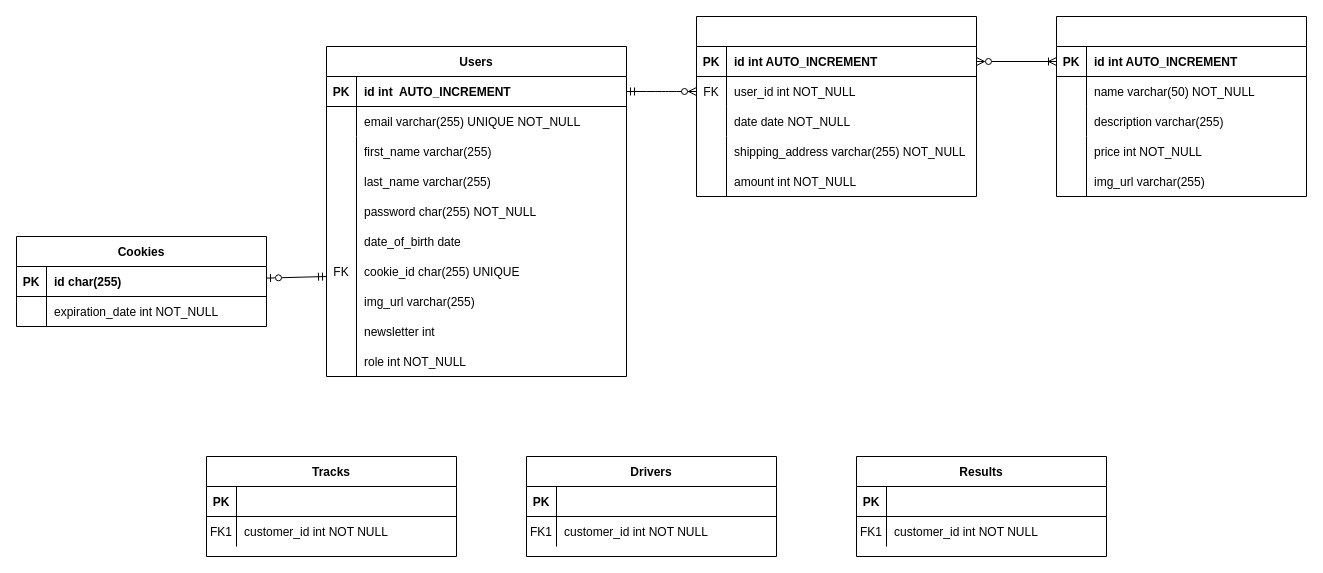
Some shapes in this 1323 by 573 pixel diagram are drawn without their labels. The shapes that lost their labels are listed below. From the top down, each one's box as (x1, y1, x2, y2) in pixels, then its label:
(696, 16, 976, 196): Orders
(1056, 16, 1306, 196): Products
